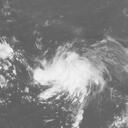cyclone: (45, 49, 96, 97)
